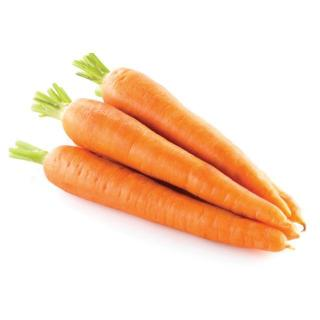carrot: (62, 94, 294, 230), (99, 64, 292, 220), (35, 144, 289, 254)
